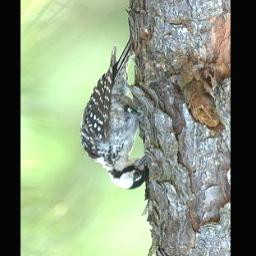Woodpecker: (78, 38, 149, 190)
